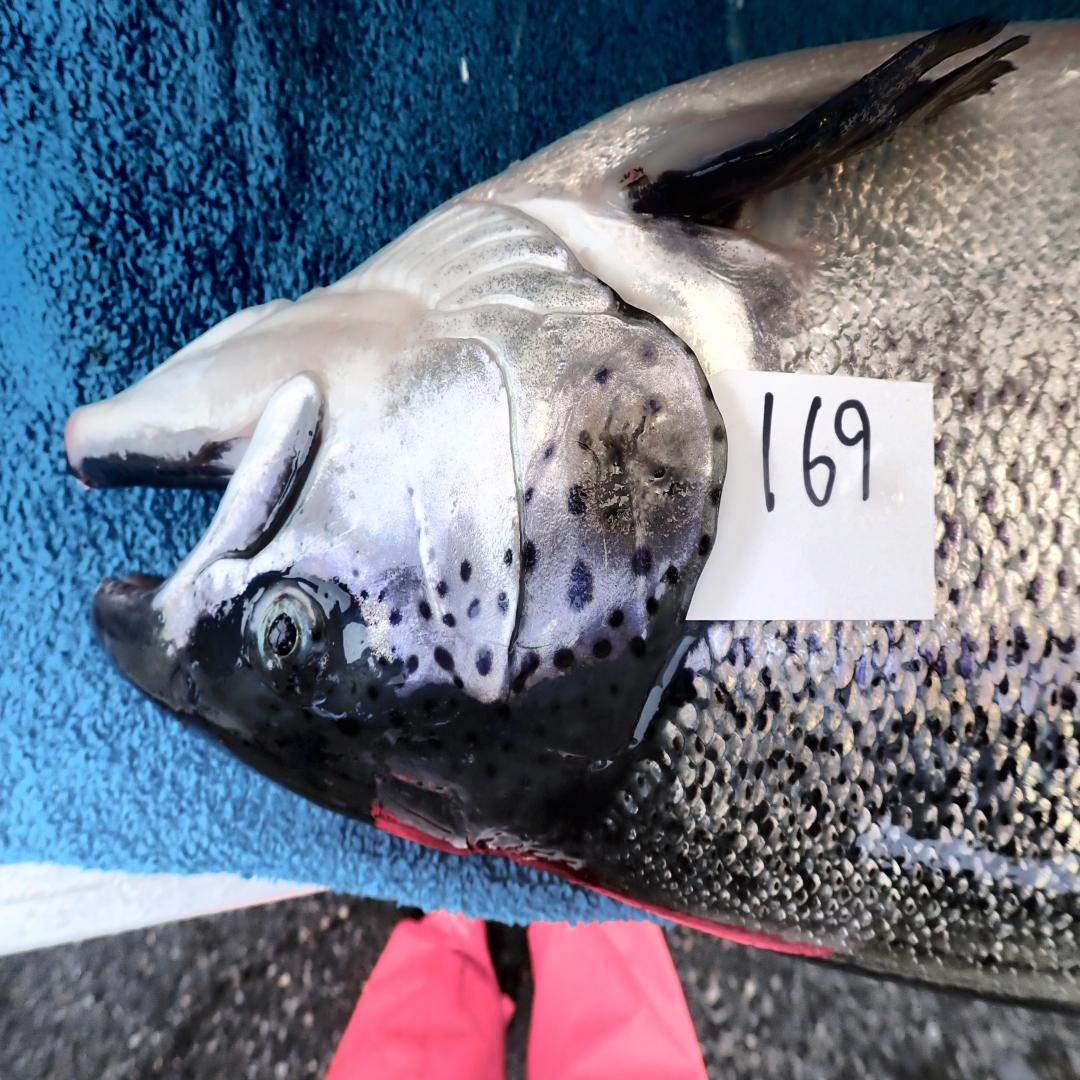spot: (650, 464, 690, 501), (510, 650, 542, 695), (567, 560, 593, 610), (435, 647, 464, 689), (605, 433, 633, 472), (633, 338, 667, 368), (599, 495, 629, 529), (631, 546, 652, 577), (696, 529, 715, 562), (567, 484, 586, 515), (643, 394, 667, 416), (711, 416, 728, 444), (435, 647, 454, 672), (523, 540, 538, 571), (553, 647, 574, 669), (477, 647, 491, 675), (593, 638, 612, 658), (660, 565, 679, 585), (709, 481, 724, 506), (593, 366, 612, 385), (405, 655, 420, 678), (374, 585, 388, 608), (608, 608, 624, 627), (466, 599, 481, 619), (578, 430, 593, 450), (645, 596, 660, 616), (460, 560, 472, 582), (542, 442, 555, 461), (331, 461, 348, 475), (325, 501, 338, 518), (498, 591, 508, 613), (388, 608, 401, 624), (443, 613, 456, 627), (523, 487, 534, 503), (437, 579, 447, 596), (420, 602, 430, 619), (426, 547, 436, 564), (504, 548, 513, 565), (407, 484, 416, 501), (402, 393, 413, 406), (359, 588, 369, 602), (321, 520, 331, 534), (346, 456, 356, 470), (397, 436, 407, 447), (350, 568, 361, 577), (348, 489, 356, 501), (297, 540, 306, 548), (329, 540, 335, 548), (391, 646, 395, 653)
